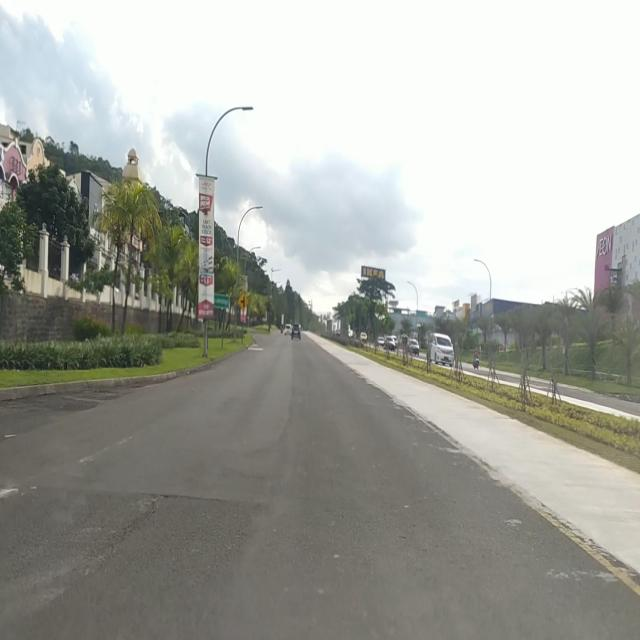Drain Hole: (81, 506, 151, 565)
Sewer Cover: (138, 486, 230, 506)
